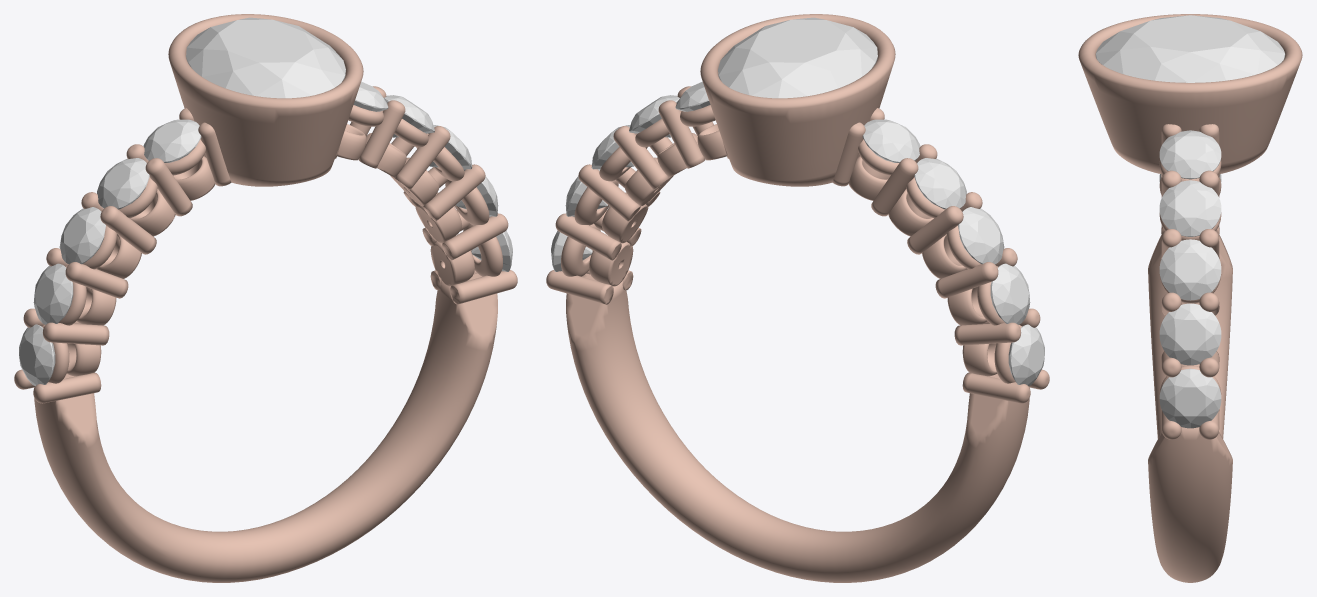
Rendered from diamond-oval-rosegold-bezelset-taperedband-11stone.glb.
The picture shows the model from 3 angles, left to right: view 1: azimuth 30°, elevation 25°; view 2: azimuth 150°, elevation 25°; view 3: azimuth 270°, elevation 25°; orthographic projection.
Visible parts, largest first — view 1: metal, stone.002, side.022, side.023, side.024, side.021, side.020, side.028, side.029; view 2: metal, stone.002, side.022, side.023, side.024, side.021, side.020, side.028, side.029; view 3: metal, stone.002, side.026, side.027, side.025, side.028, side.029.
Boxes of the visible parts, left/top/right/bottom form: metal: left=14, top=14, right=517, bottom=582; stone.002: left=186, top=17, right=345, bottom=98; side.022: left=59, top=207, right=105, bottom=264; side.023: left=97, top=158, right=149, bottom=209; side.024: left=143, top=119, right=201, bottom=162; side.021: left=33, top=263, right=73, bottom=324; side.020: left=19, top=324, right=55, bottom=386; side.028: left=384, top=95, right=434, bottom=137; side.029: left=349, top=81, right=388, bottom=120; metal: left=546, top=14, right=1049, bottom=582; stone.002: left=718, top=17, right=877, bottom=98; side.022: left=958, top=207, right=1004, bottom=264; side.023: left=914, top=158, right=966, bottom=209; side.024: left=862, top=119, right=920, bottom=162; side.021: left=990, top=263, right=1030, bottom=324; side.020: left=1008, top=324, right=1044, bottom=386; side.028: left=629, top=95, right=679, bottom=137; side.029: left=675, top=81, right=714, bottom=120; metal: left=1078, top=14, right=1302, bottom=582; stone.002: left=1095, top=15, right=1285, bottom=82; side.026: left=1159, top=303, right=1221, bottom=365; side.027: left=1159, top=239, right=1221, bottom=300; side.025: left=1159, top=368, right=1221, bottom=428; side.028: left=1159, top=180, right=1221, bottom=236; side.029: left=1159, top=130, right=1221, bottom=179.
Size of the model in its own units: 22.05 by 23.4 by 9.04.
